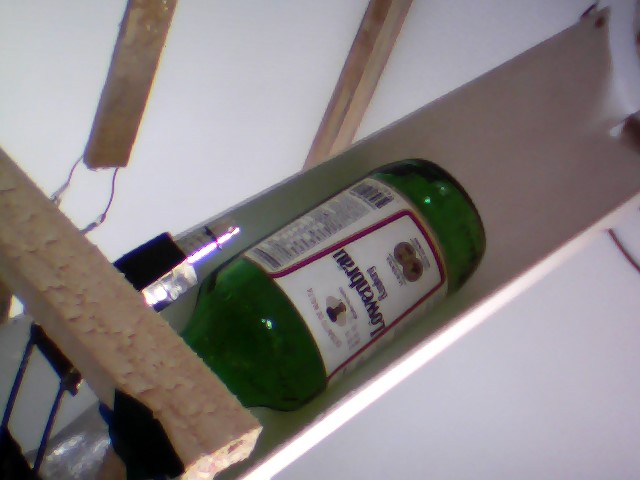vidrio: (166, 151, 494, 418)
